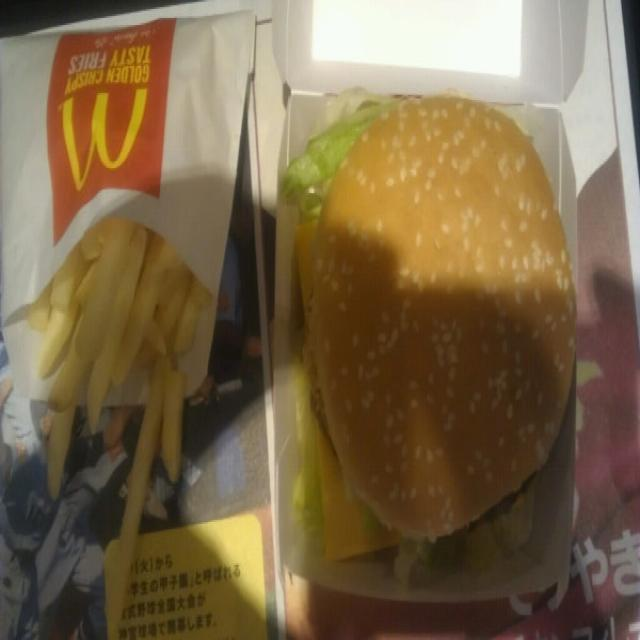Hamburger: (272, 82, 580, 577)
